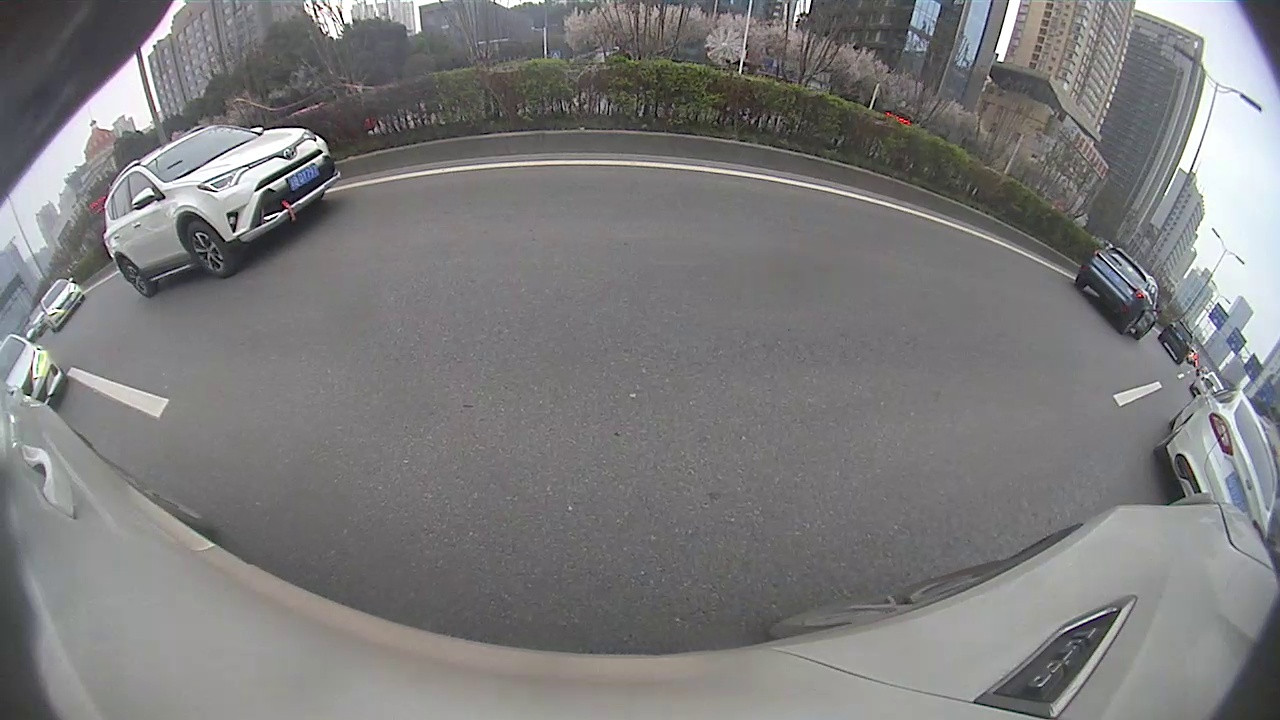bus: (853, 116, 1187, 319)
car: (833, 123, 1165, 317), (236, 181, 425, 275), (471, 147, 584, 217), (647, 163, 664, 177)
front: (833, 196, 865, 239), (402, 203, 424, 232)
rear: (972, 236, 1044, 317), (312, 227, 342, 264), (549, 183, 565, 211)
